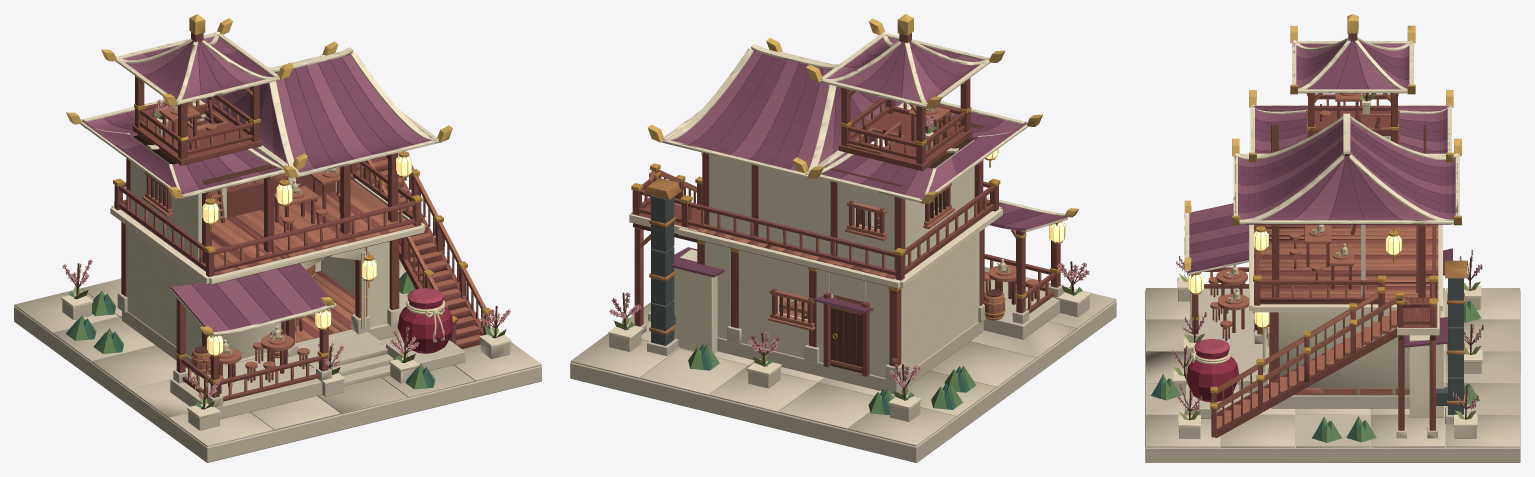
The model's file is tavern-lod0-76b92ade914b.glb.
3 views of the same model, side by side, from view 1: azimuth 30°, elevation 25°; view 2: azimuth 150°, elevation 25°; view 3: azimuth 270°, elevation 25° (orthographic). The views are drawn at different scales.
Parts seen in each view (by area): view 1: TW17batch_0.001, TW17batch_53.001, TW17batch_73.001, TW17batch_52.001, TW17batch_128.001, TW17batch_36.001, TW17batch_5.001, TW17batch_40.001, TW17batch_98.001, TW17batch_101.001, TW17batch_131.001, TW17batch_109.001 (+5 smaller); view 2: TW17batch_0.001, TW17batch_5.001, TW17batch_53.001, TW17batch_73.001, TW17batch_128.001, TW17batch_36.001, TW17batch_52.001, TW17batch_98.001, TW17batch_135.001, TW17batch_40.001, TW17batch_131.001, TW17batch_38.001 (+5 smaller); view 3: TW17batch_0.001, TW17batch_73.001, TW17batch_53.001, TW17batch_52.001, TW17batch_128.001, TW17batch_36.001, TW17batch_5.001, TW17batch_38.001, TW17batch_135.001, TW17batch_40.001, TW17batch_101.001, TW17batch_98.001 (+9 smaller).
Boxes of the visible parts, bbox=[...] form: TW17batch_0.001: bbox=[14, 123, 541, 462]; TW17batch_53.001: bbox=[114, 32, 490, 401]; TW17batch_73.001: bbox=[105, 41, 413, 329]; TW17batch_52.001: bbox=[126, 79, 486, 396]; TW17batch_128.001: bbox=[61, 31, 511, 418]; TW17batch_36.001: bbox=[82, 36, 429, 335]; TW17batch_5.001: bbox=[126, 118, 389, 358]; TW17batch_40.001: bbox=[64, 14, 508, 397]; TW17batch_98.001: bbox=[63, 101, 508, 409]; TW17batch_101.001: bbox=[397, 298, 453, 353]; TW17batch_131.001: bbox=[68, 111, 495, 409]; TW17batch_109.001: bbox=[202, 156, 411, 355]; TW17batch_0.001: bbox=[570, 138, 1116, 462]; TW17batch_5.001: bbox=[673, 139, 979, 378]; TW17batch_53.001: bbox=[631, 33, 1060, 376]; TW17batch_73.001: bbox=[671, 38, 1044, 312]; TW17batch_128.001: bbox=[608, 32, 1090, 409]; TW17batch_36.001: bbox=[666, 37, 1067, 230]; TW17batch_52.001: bbox=[640, 82, 1048, 370]; TW17batch_98.001: bbox=[611, 108, 1087, 400]; TW17batch_135.001: bbox=[651, 195, 675, 345]; TW17batch_40.001: bbox=[647, 14, 1078, 217]; TW17batch_131.001: bbox=[625, 125, 1082, 414]; TW17batch_38.001: bbox=[684, 42, 1044, 225]; TW17batch_0.001: bbox=[1145, 105, 1520, 462]; TW17batch_73.001: bbox=[1187, 40, 1457, 347]; TW17batch_53.001: bbox=[1191, 33, 1438, 437]; TW17batch_52.001: bbox=[1208, 93, 1440, 428]; TW17batch_128.001: bbox=[1173, 37, 1482, 427]; TW17batch_36.001: bbox=[1189, 40, 1457, 262]; TW17batch_5.001: bbox=[1278, 136, 1443, 417]; TW17batch_38.001: bbox=[1189, 40, 1457, 263]; TW17batch_135.001: bbox=[1436, 278, 1463, 414]; TW17batch_40.001: bbox=[1172, 14, 1481, 408]; TW17batch_101.001: bbox=[1185, 349, 1238, 402]; TW17batch_98.001: bbox=[1172, 93, 1481, 420].
Bounding box in the file's own units: 10 × 9.91 × 10.
Materials: 24 (8 with a texture image).
